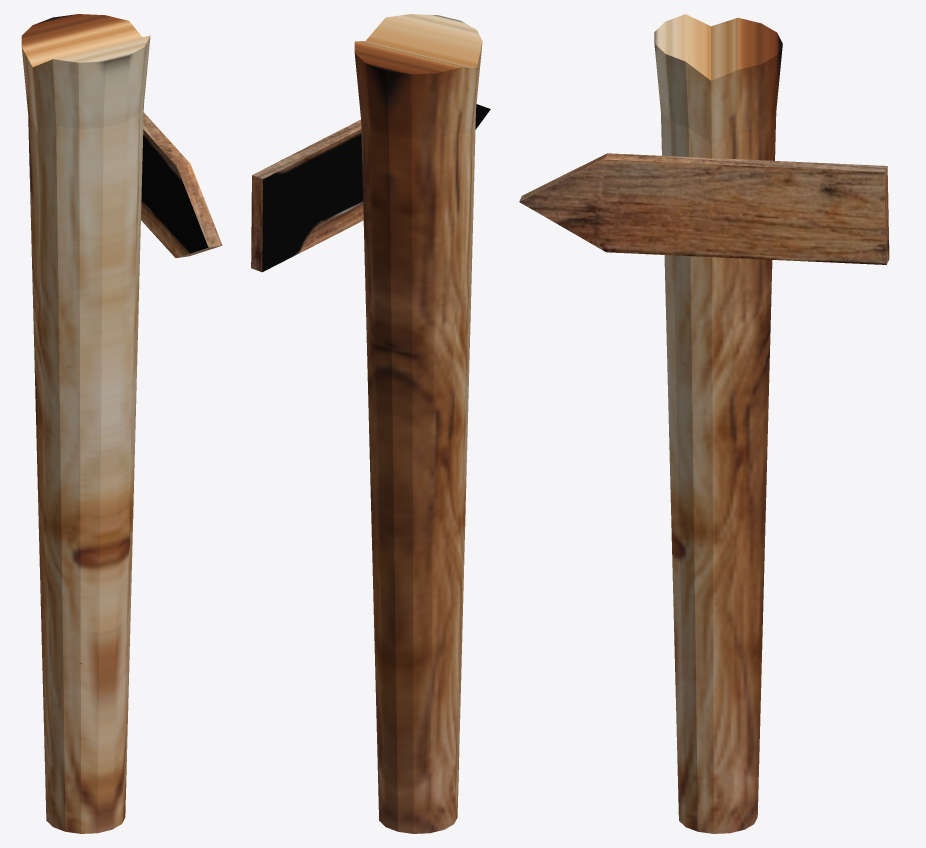
File: panneau_instructions.fbx
3 renders of one model, left to right at view 1: azimuth 30°, elevation 25°; view 2: azimuth 150°, elevation 25°; view 3: azimuth 270°, elevation 25°, orthographic.
Parts seen in each view (by area): view 1: Pole, Panneau; view 2: Pole, Panneau; view 3: Pole, Panneau.
Boxes of the visible parts, box(x1,y1,x2,y2) form: Pole: box(21, 14, 150, 833); Panneau: box(141, 112, 222, 257); Pole: box(354, 14, 482, 833); Panneau: box(251, 104, 490, 272); Pole: box(654, 14, 782, 833); Panneau: box(519, 153, 889, 264).
Bounding box in the file's own units: 73.12 × 391 × 179.
2 materials, 2 textured.
